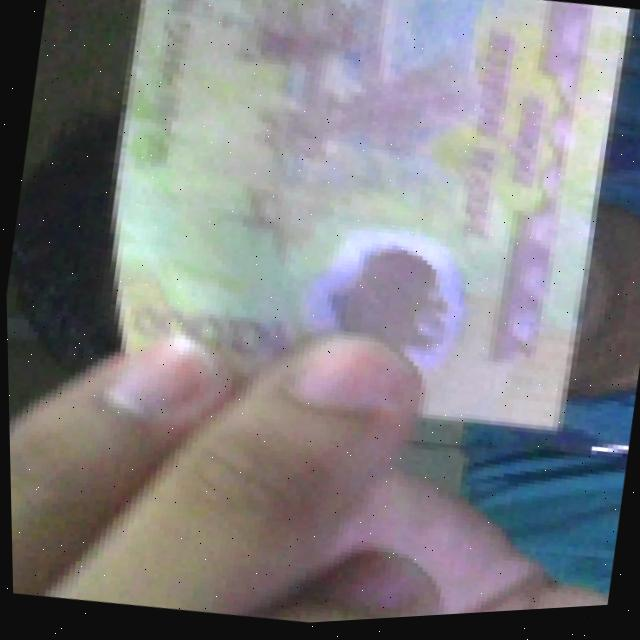10 000 VND: (68, 0, 640, 475)
